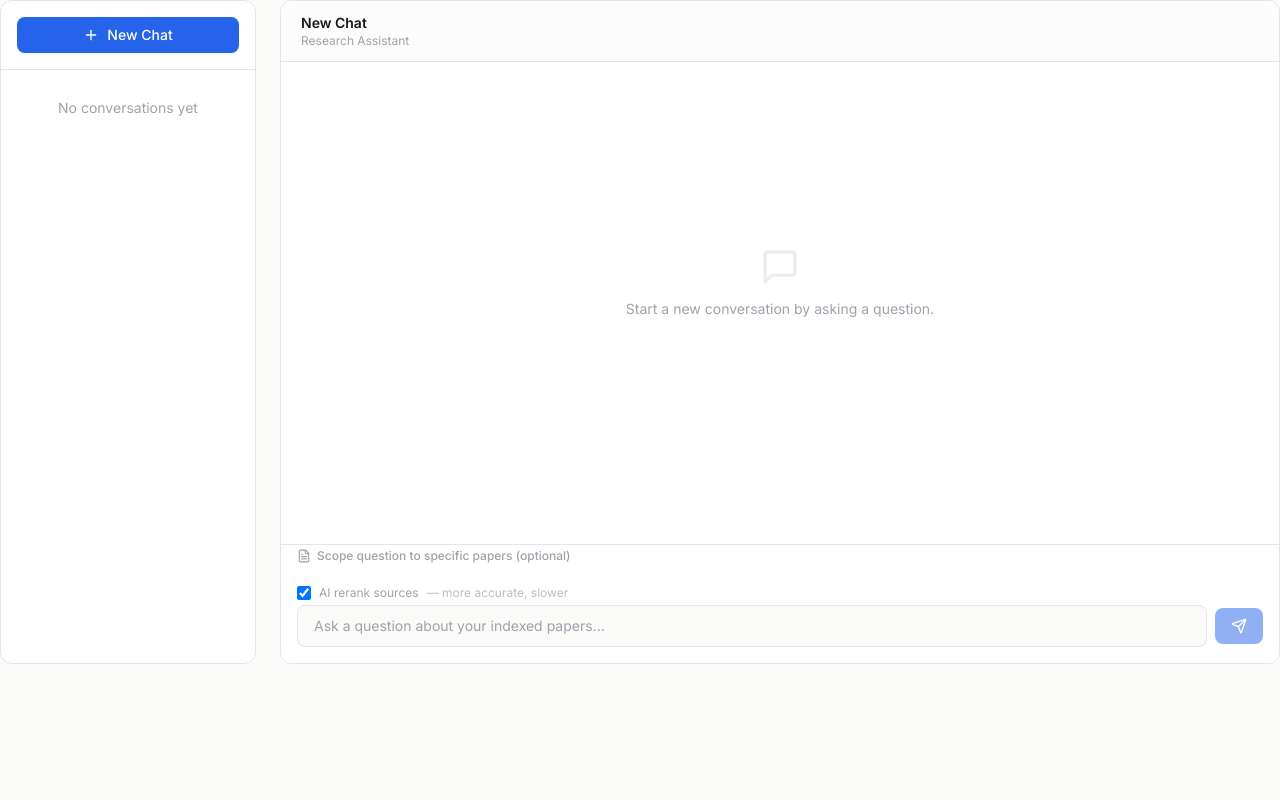
Test: Chat reranking › shows the failure reason when the stream errors after sources
(page scrolled)
Type "What is attention?" into the field with placeholder "Ask a question about your indexed papers...".
click(752, 626); type("What is attention?")  # box [297,605,1207,647]
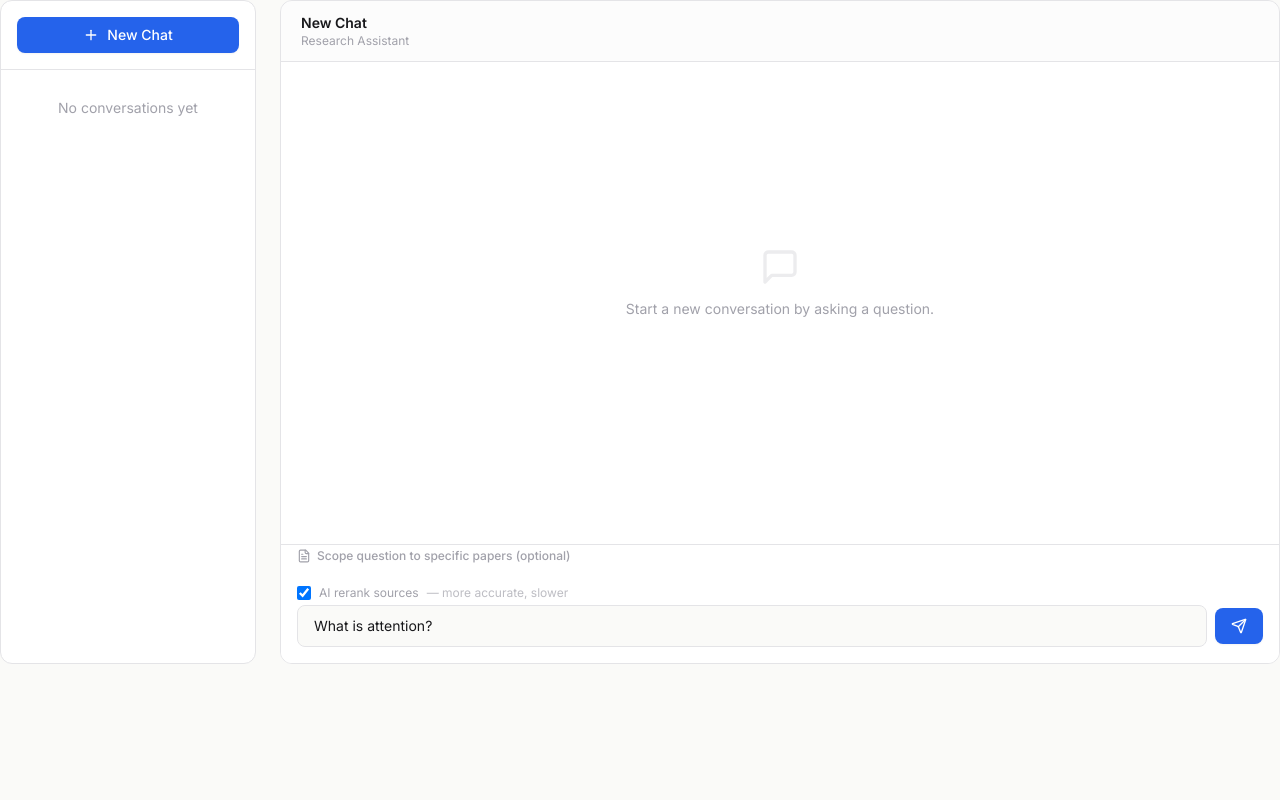
Submit the form with placeholder "ask a question", box [297,605,1263,647]
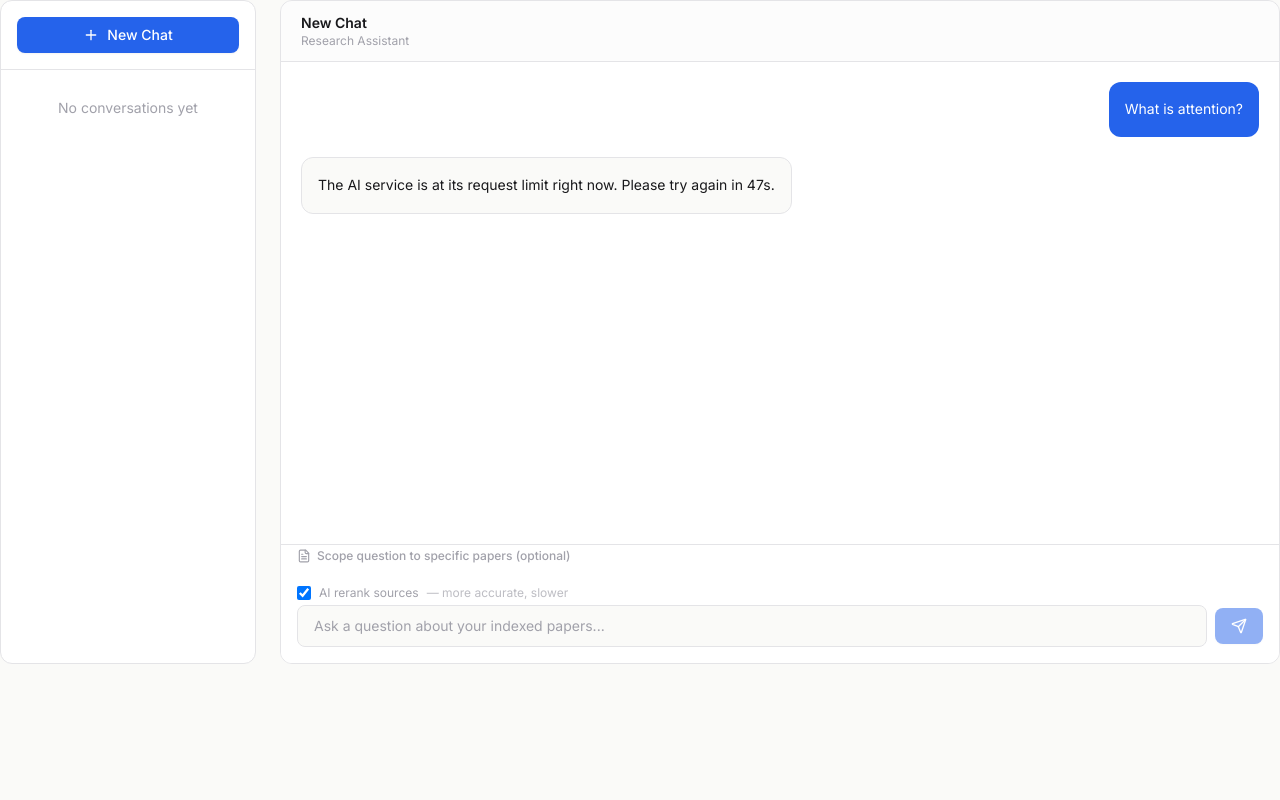
Check: the text "at its request limit right now" is shown, box [318,176,775,193]
